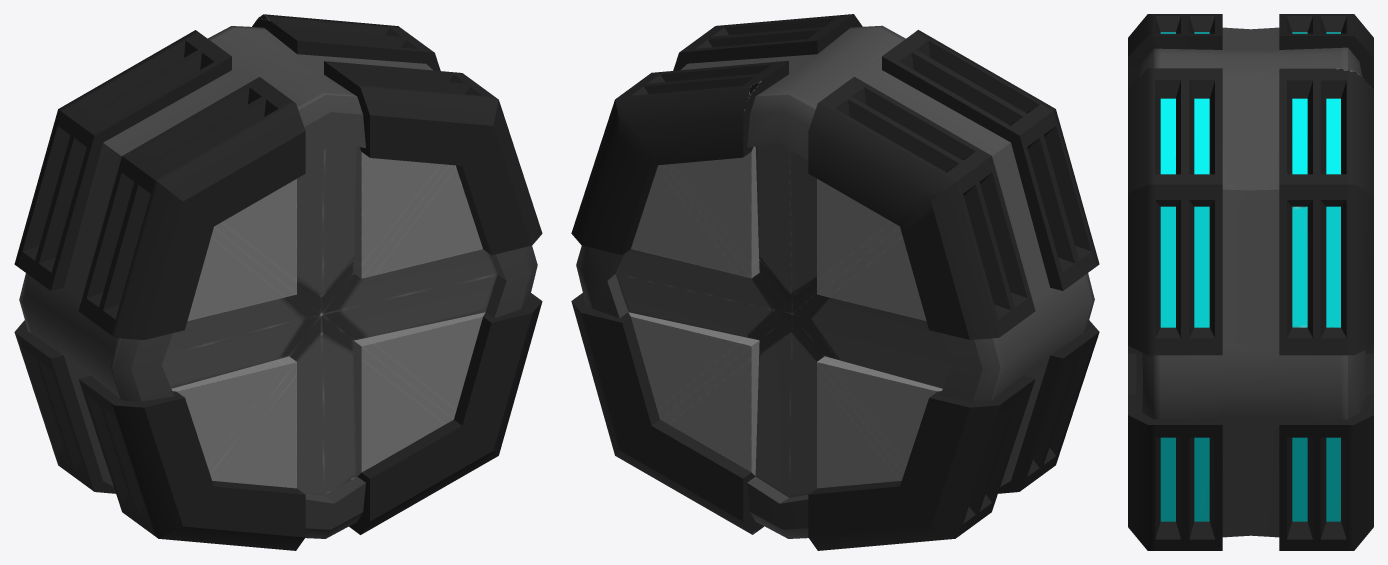
Rendered from Health Pack Texture.fbx.
The picture shows the model from 3 angles, left to right: view 1: azimuth 30°, elevation 25°; view 2: azimuth 150°, elevation 25°; view 3: azimuth 270°, elevation 25°; orthographic projection. The views are drawn at different scales.
Visible parts, largest first — view 1: pCube1; view 2: pCube1; view 3: pCube1.
Part boxes in pixels (left/top/right/bottom): pCube1: left=14, top=14, right=542, bottom=550; pCube1: left=571, top=14, right=1099, bottom=550; pCube1: left=1128, top=14, right=1373, bottom=550.
Size of the model in its own units: 1.26 by 1.26 by 0.6081.
